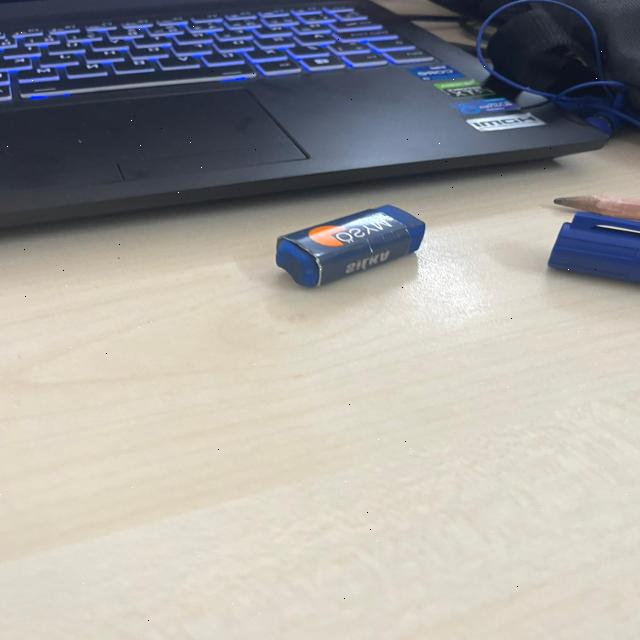eraser: (259, 195, 434, 297)
pencil: (531, 192, 640, 228)
